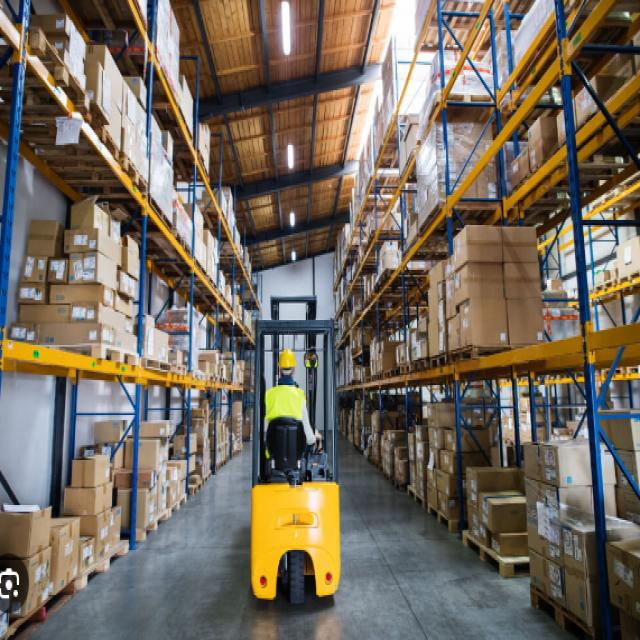helmet: (276, 345, 297, 381)
vest: (264, 380, 308, 458)
